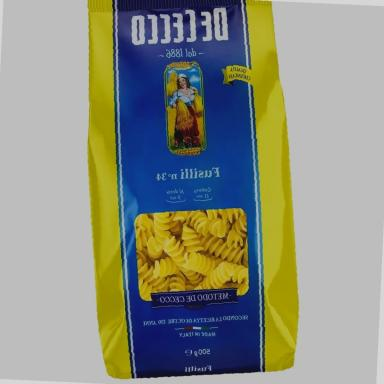pasta package: (89, 0, 298, 378)
